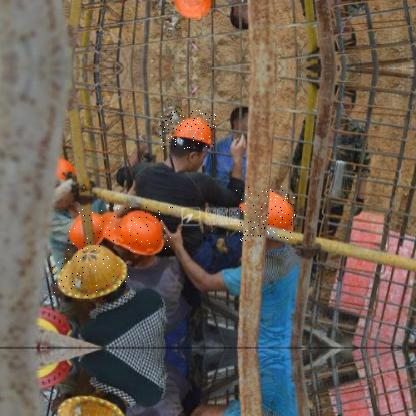safetyhelmet: (50, 246, 131, 302), (100, 206, 174, 256), (235, 186, 299, 242), (68, 207, 120, 257), (160, 110, 217, 150)
